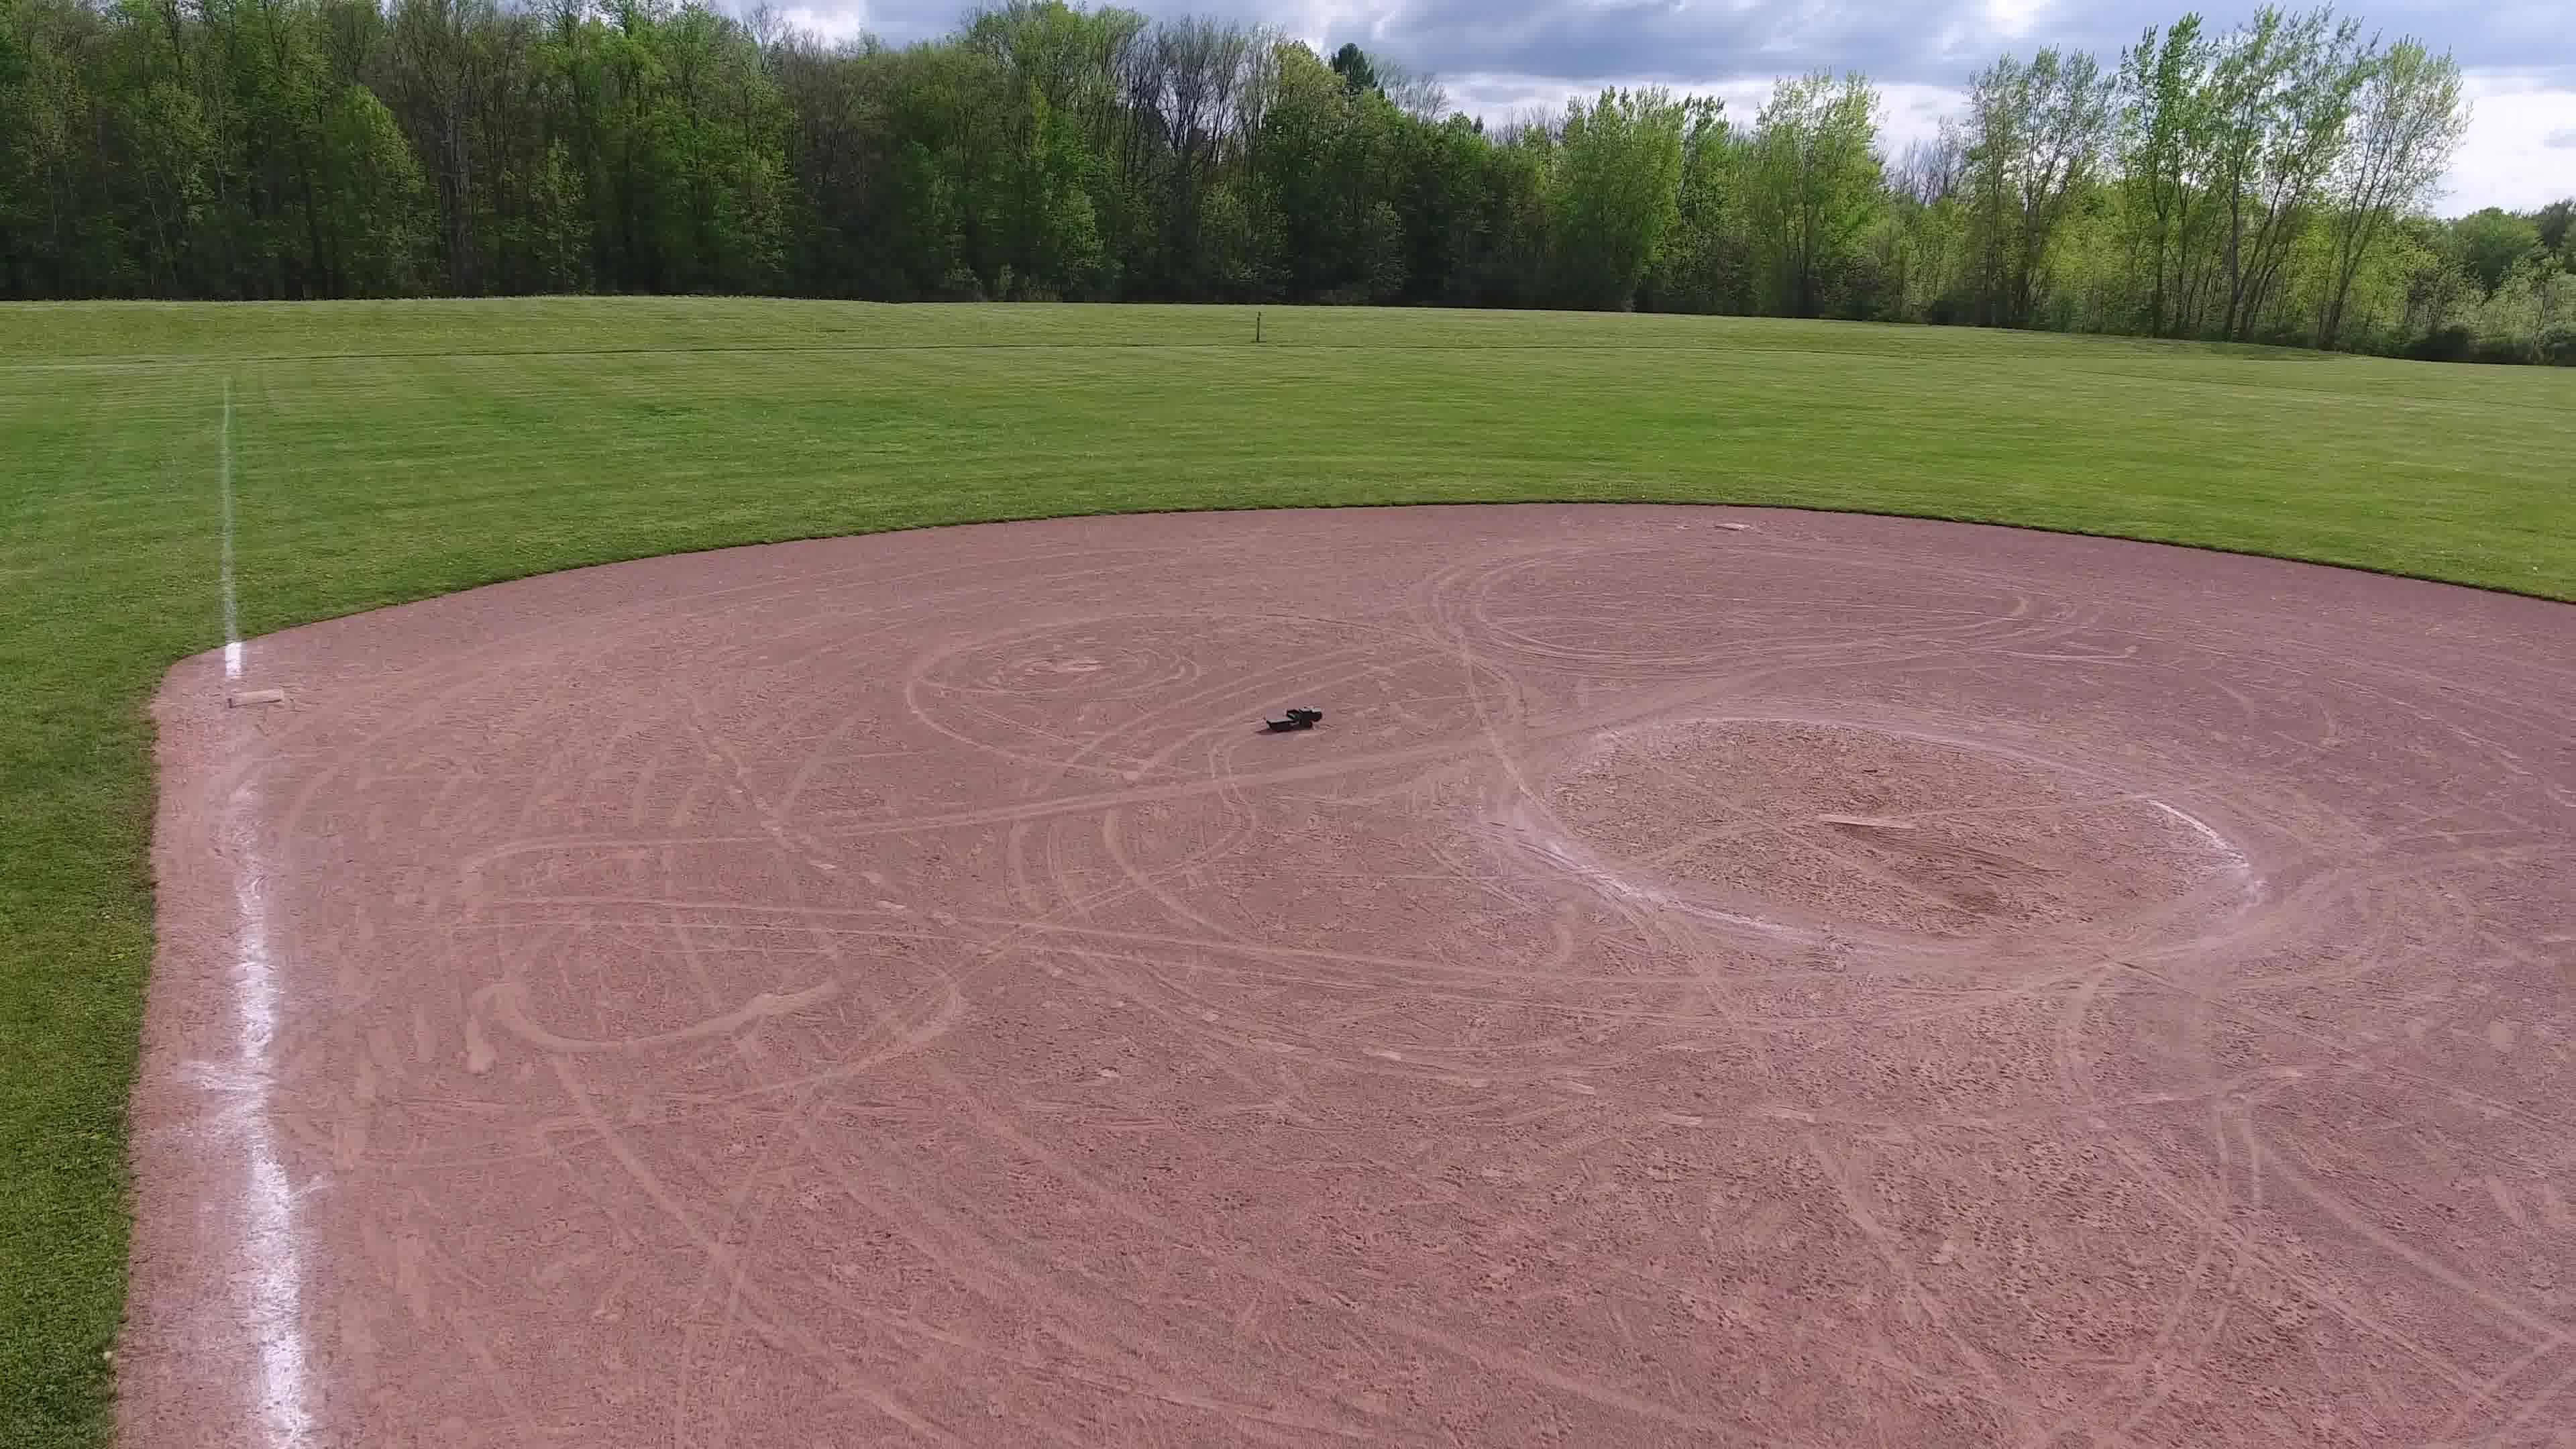transporter9: (1263, 704, 1325, 732)
